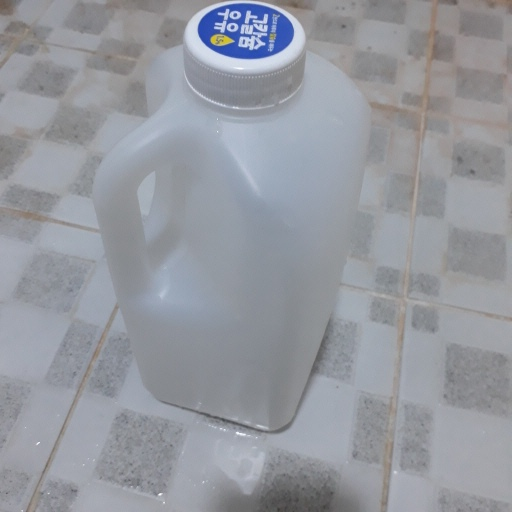Plastic_1: (90, 2, 370, 433)
